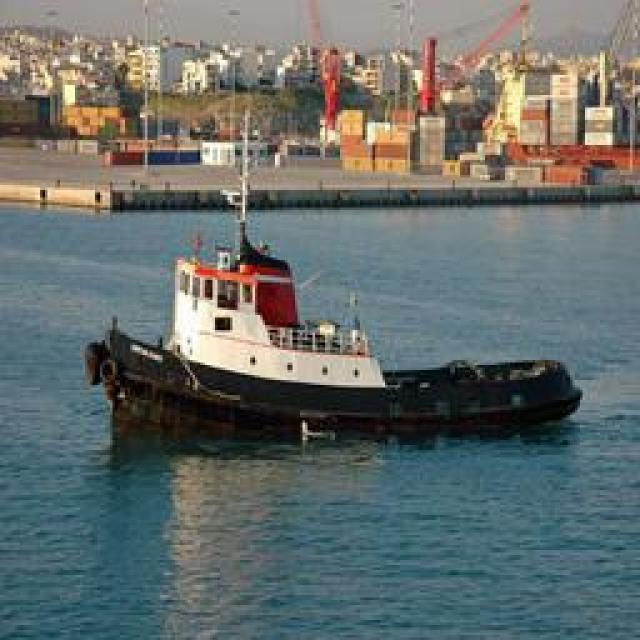ship2: (82, 119, 585, 450)
